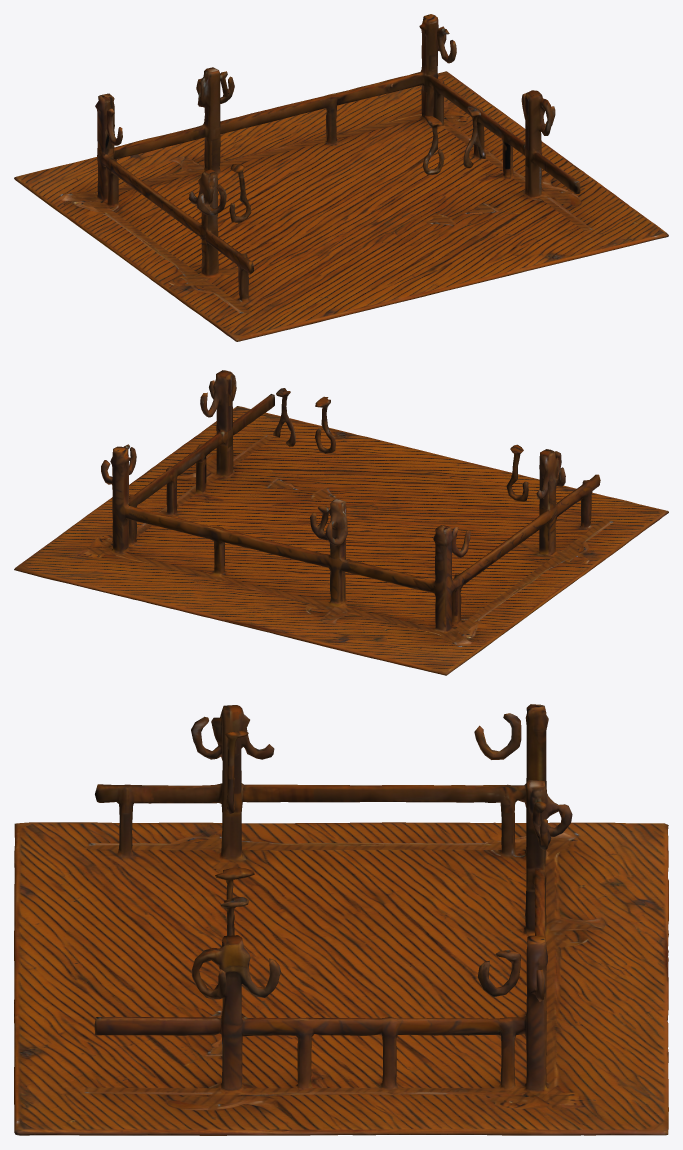
Rendered from 07e0845d-5447-4a22-adc1-93dd2ce4760e.glb.
3 renders of one model, top to bottom at view 1: azimuth 30°, elevation 25°; view 2: azimuth 150°, elevation 25°; view 3: azimuth 270°, elevation 25°, orthographic. The views are drawn at different scales.
Size of the model in its own units: 2.01 by 0.4672 by 1.8.
1 material, 1 textured.
